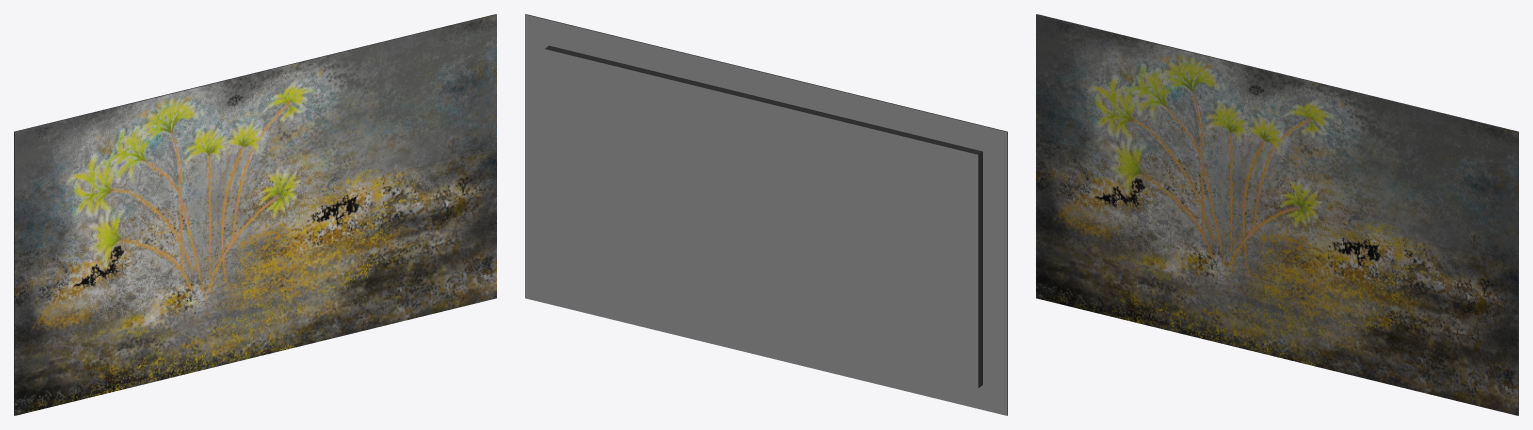
Rendered from hz072_grand_dibond.glb.
The picture shows the model from 3 angles, left to right: view 1: azimuth 30°, elevation 25°; view 2: azimuth 150°, elevation 25°; view 3: azimuth 330°, elevation 25°; orthographic projection.
Parts seen in each view (by area): view 1: hz072_grand_dibond; view 2: hz072_grand_dibond; view 3: hz072_grand_dibond.
Part boxes in pixels (bbox=[...]): hz072_grand_dibond: bbox=[14, 14, 496, 415]; hz072_grand_dibond: bbox=[525, 14, 1007, 415]; hz072_grand_dibond: bbox=[1036, 14, 1518, 415].
Size of the model in its own units: 1.2 by 0.675 by 0.023.
4 materials, 1 textured.
